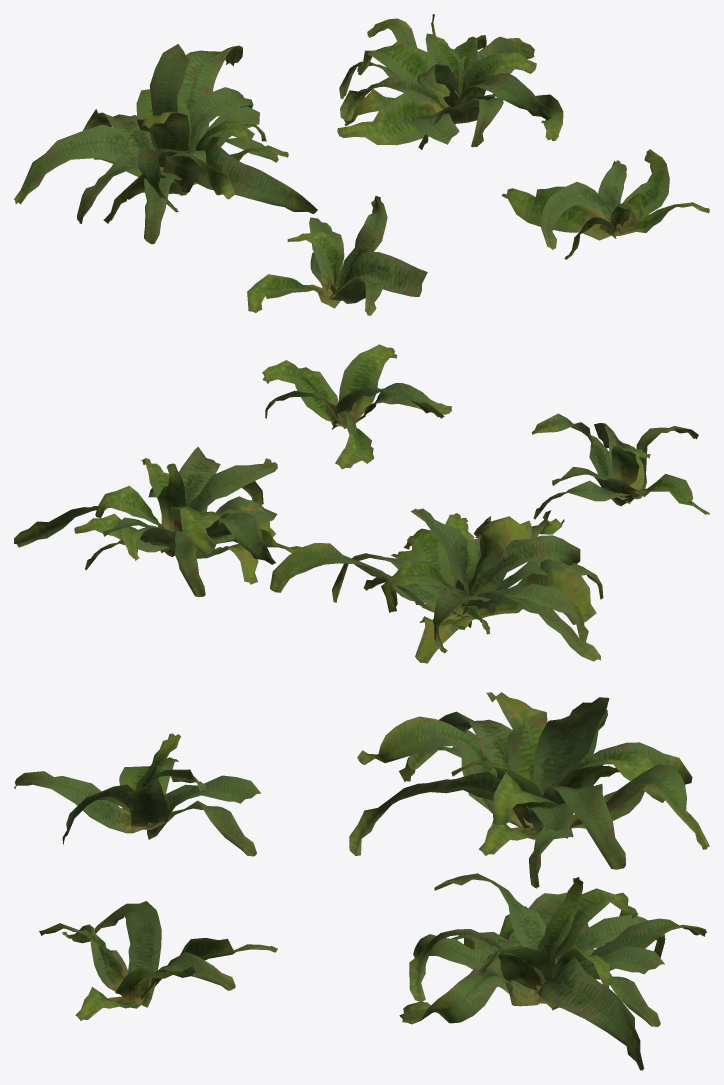
File: fern_02.glb
3 renders of one model, top to bottom at view 1: azimuth 30°, elevation 25°; view 2: azimuth 150°, elevation 25°; view 3: azimuth 270°, elevation 25°, orthographic. The views are drawn at different scales.
Parts seen in each view (by area): view 1: fern_02_b; view 2: fern_02_b; view 3: fern_02_b.
Boxes of the visible parts, x1,y1,x2,y2 form: fern_02_b: (14, 14, 709, 315); fern_02_b: (14, 344, 709, 663); fern_02_b: (14, 692, 709, 1070).
Bounding box in the file's own units: 1.97 × 0.4277 × 1.72.
Materials: 1 (1 with a texture image).
